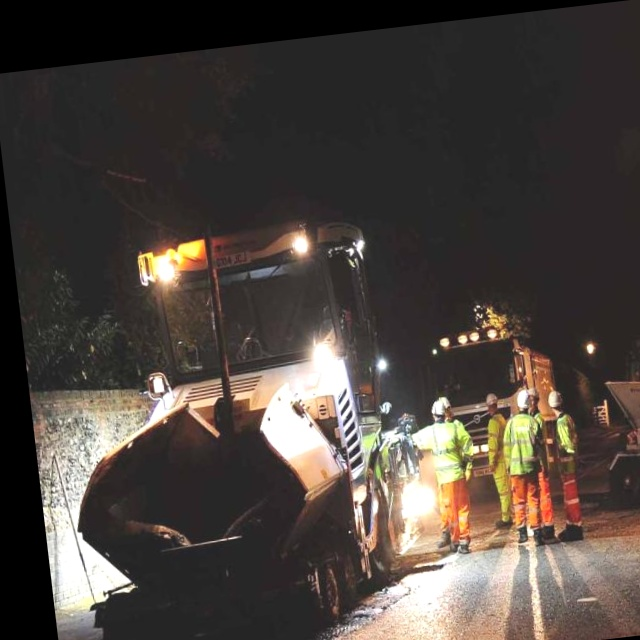Con_Chaleco: (504, 413, 544, 476), (430, 421, 467, 488), (554, 414, 580, 463)
